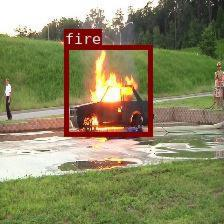fire: (64, 45, 152, 135)
